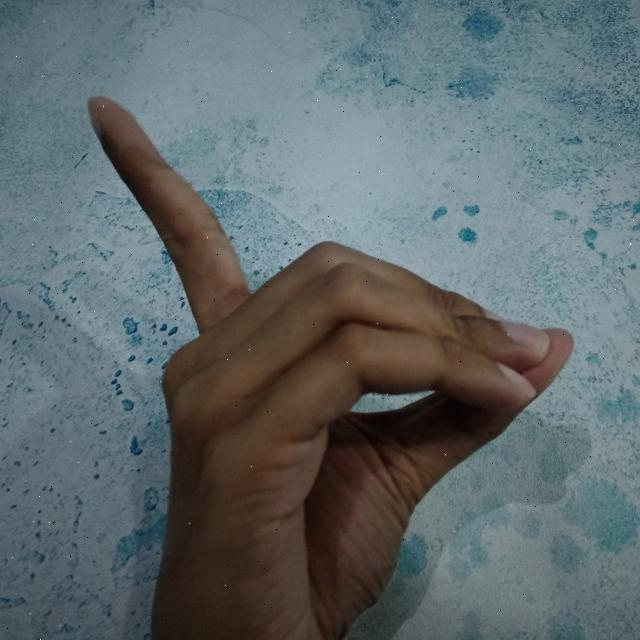D: (88, 95, 575, 640)
